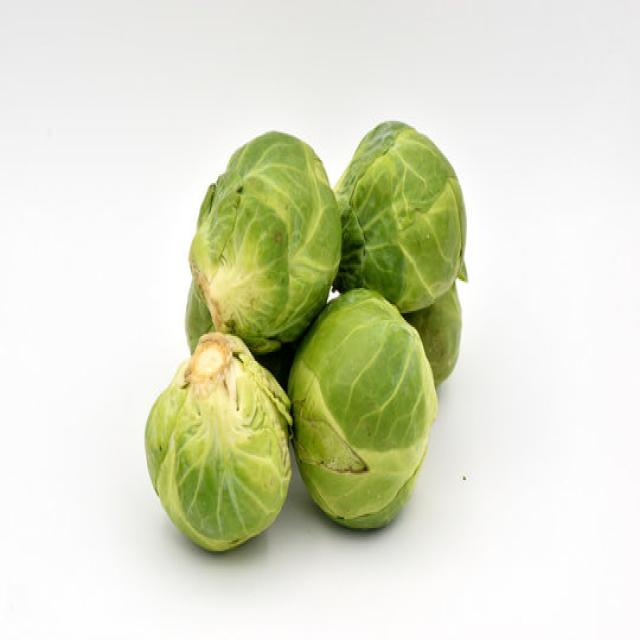Cabbage: (287, 286, 437, 530), (184, 128, 342, 356), (143, 329, 293, 553), (331, 117, 467, 313), (404, 281, 462, 387)
